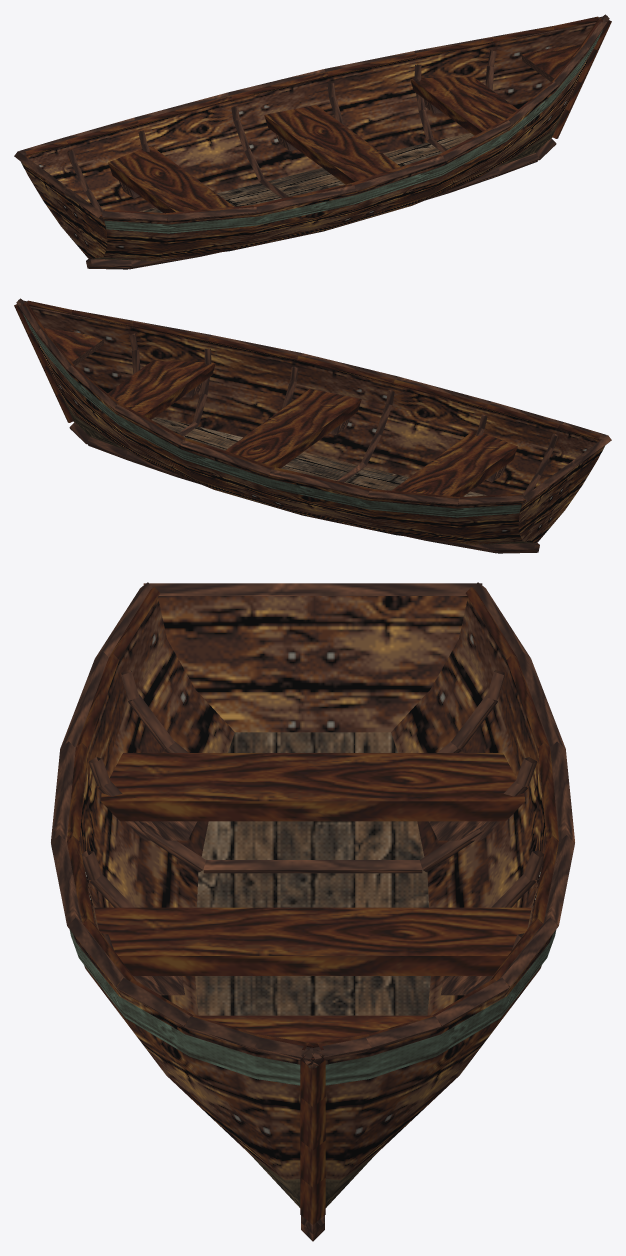
File: Bote.glb
The picture shows the model from 3 angles, top to bottom: view 1: azimuth 30°, elevation 25°; view 2: azimuth 150°, elevation 25°; view 3: azimuth 270°, elevation 25°; orthographic projection. The views are drawn at different scales.
Parts seen in each view (by area): view 1: Forro interno, Bancos, Casco, Borda, Faixa pintada, Estrado, Espelho de popa, Cavernas, Quilha, Joelho de proa, Roda de proa, Apoios dos bancos; view 2: Forro interno, Bancos, Casco, Borda, Faixa pintada, Estrado, Espelho de popa, Cavernas, Quilha, Joelho de proa, Roda de proa, Apoios dos bancos; view 3: Bancos, Forro interno, Espelho de popa, Borda, Estrado, Casco, Cavernas, Faixa pintada, Roda de proa, Apoios dos bancos.
Boxes of the visible parts, x1,y1,x2,y2 form: Forro interno: (26,24,594,211); Bancos: (108,77,517,213); Casco: (90,32,600,260); Borda: (14,14,609,221); Faixa pintada: (21,30,602,233); Estrado: (139,133,474,212); Espelho de popa: (21,162,107,259); Cavernas: (67,49,496,211); Quilha: (86,138,556,269); Joelho de proa: (521,44,581,81); Roda de proa: (552,20,611,138); Apoios dos bancos: (119,99,443,198); Forro interno: (31,308,599,495); Bancos: (108,361,517,497); Casco: (25,316,535,544); Borda: (16,298,611,505); Faixa pintada: (23,314,604,517); Estrado: (151,417,486,496); Espelho de popa: (518,446,604,543); Cavernas: (129,333,558,495); Quilha: (69,422,539,553); Joelho de proa: (44,328,104,365); Roda de proa: (14,304,73,422); Apoios dos bancos: (182,383,506,482); Bancos: (94,753,531,1045); Forro interno: (79,597,546,1015); Espelho de popa: (158,596,467,732); Borda: (51,582,574,1065); Estrado: (195,732,430,1015); Casco: (73,934,552,1207); Cavernas: (81,670,544,982); Faixa pintada: (69,930,556,1085); Roda de proa: (300,1055,325,1224); Apoios dos bancos: (125,821,500,995).
Size of the model in its own units: 3.71 by 0.9272 by 1.52.
Materials: 6 (6 with a texture image).
